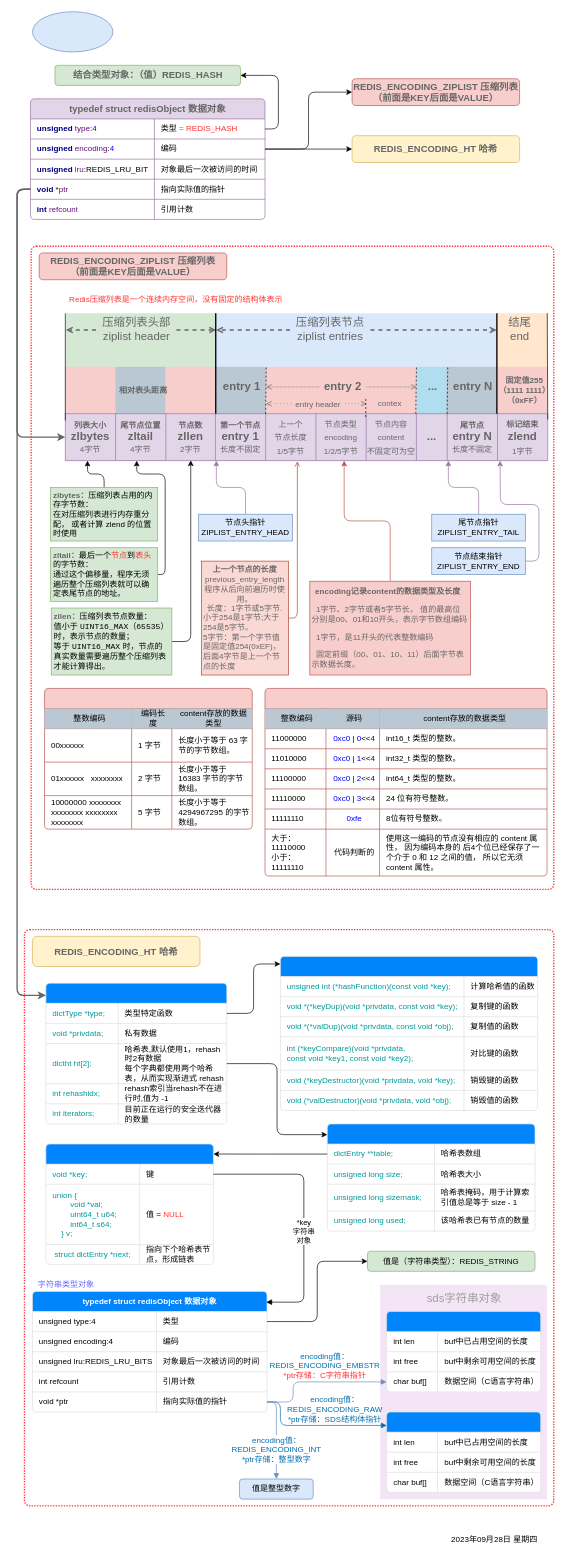
The diagram is 565 pixels wide and 1558 high, and some of its shapes have lost their labels. The shapes that lost their labels are listed below. From the top down, each one's box as (x1, y1, x2, y2) in pixels, then its label:
(32, 11, 113, 52): Redic Object 哈希数据对象
(44, 688, 252, 829): 字节数组编码 （x是记录 数组的字节长度 ）
(264, 688, 547, 876): 整数编码（编码长度为1字节）
(45, 983, 227, 1124): typedef struct dict 字典
(280, 956, 538, 1111): typedef struct dictType 字典类型特定函数
(327, 1123, 535, 1231): typedef struct dictht 哈希表
(45, 1143, 213, 1265): typedef struct dictEntry 哈希表节点
(386, 1311, 541, 1392): struct sdshdr 字符串 （redisObject和SDS是一块连续内存）
(386, 1411, 541, 1492): struct sdshdr 字符串
